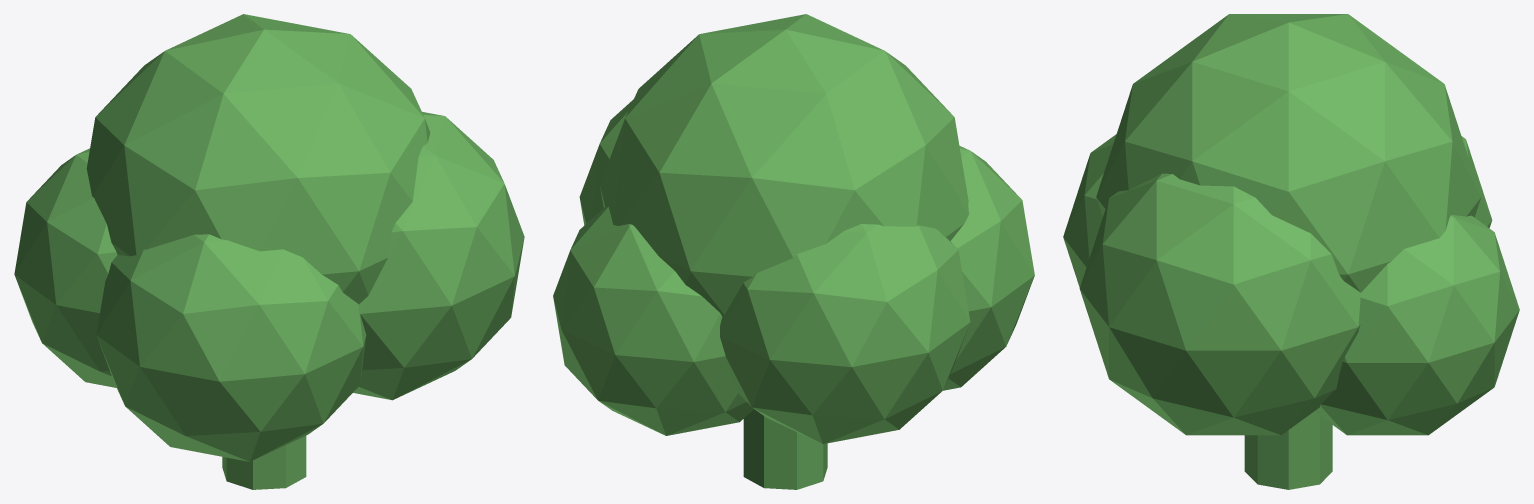
File: flora_shrub.glb
3 renders of one model, left to right at view 1: azimuth 30°, elevation 25°; view 2: azimuth 150°, elevation 25°; view 3: azimuth 270°, elevation 25°, orthographic.
Parts seen in each view (by area): view 1: FloraShrubMesh; view 2: FloraShrubMesh; view 3: FloraShrubMesh.
Boxes of the visible parts, left/top/right/bottom form: FloraShrubMesh: left=14, top=14, right=524, bottom=489; FloraShrubMesh: left=553, top=14, right=1034, bottom=489; FloraShrubMesh: left=1063, top=14, right=1519, bottom=489.
Bounding box in the file's own units: 0.8641 × 0.9 × 0.83.
